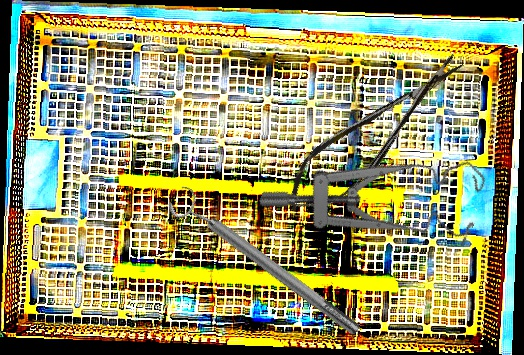Fixation Ring: (164, 181, 367, 347)
Micro Scissor: (271, 42, 481, 227)
Speculum: (257, 92, 496, 287)
